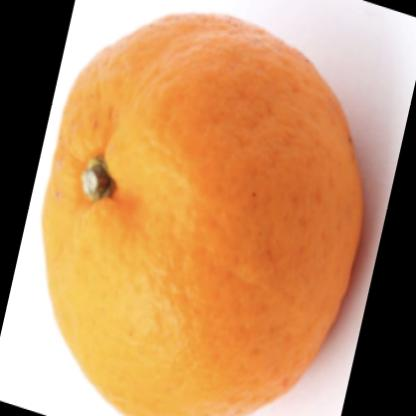fresh: (47, 14, 368, 416)
